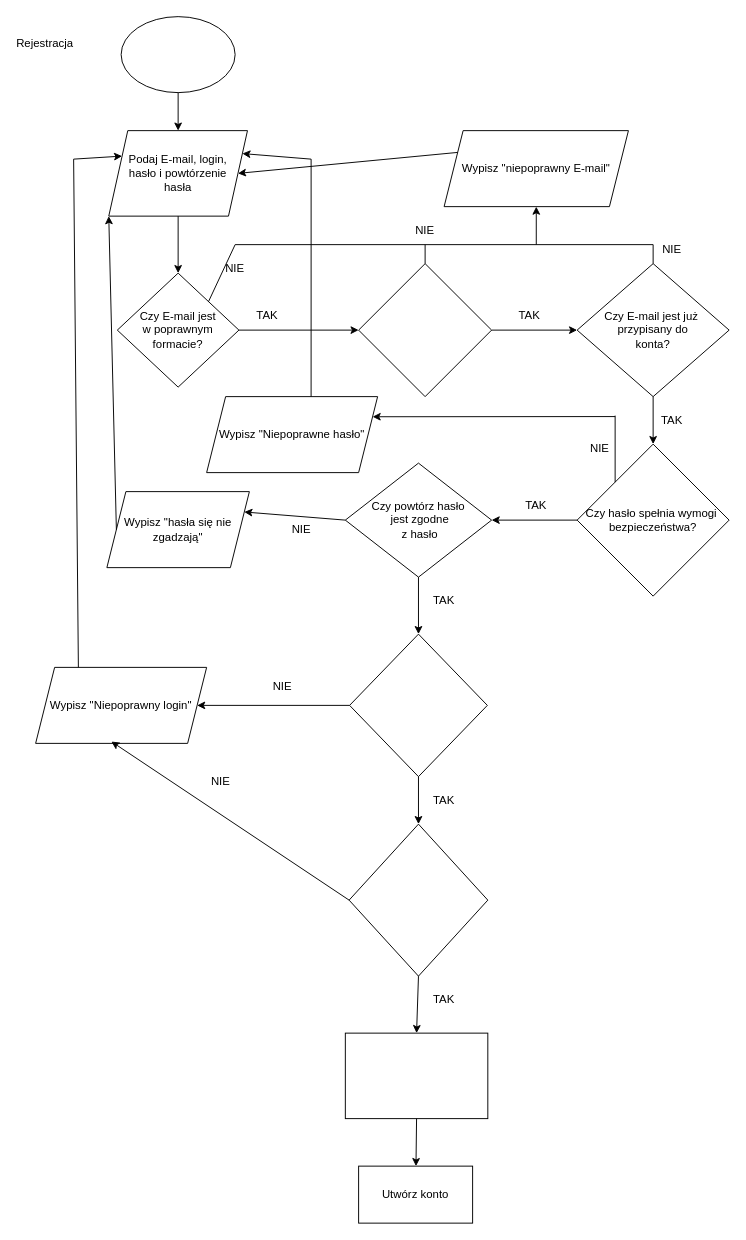
This 746x1240 diagram has some shape labels left out. Here are the shapes that lost their labels. From the top down, the box of each, then its label:
(120, 16, 235, 93): Start
(358, 263, 492, 397): Czy E-mail jest istniejący?
(349, 633, 487, 777): Czy login spełnia podstawowe wymogi?
(348, 823, 488, 976): Czy login jest już zajęty?
(344, 1032, 488, 1119): Wyślij potwierdzenie na E-mail
